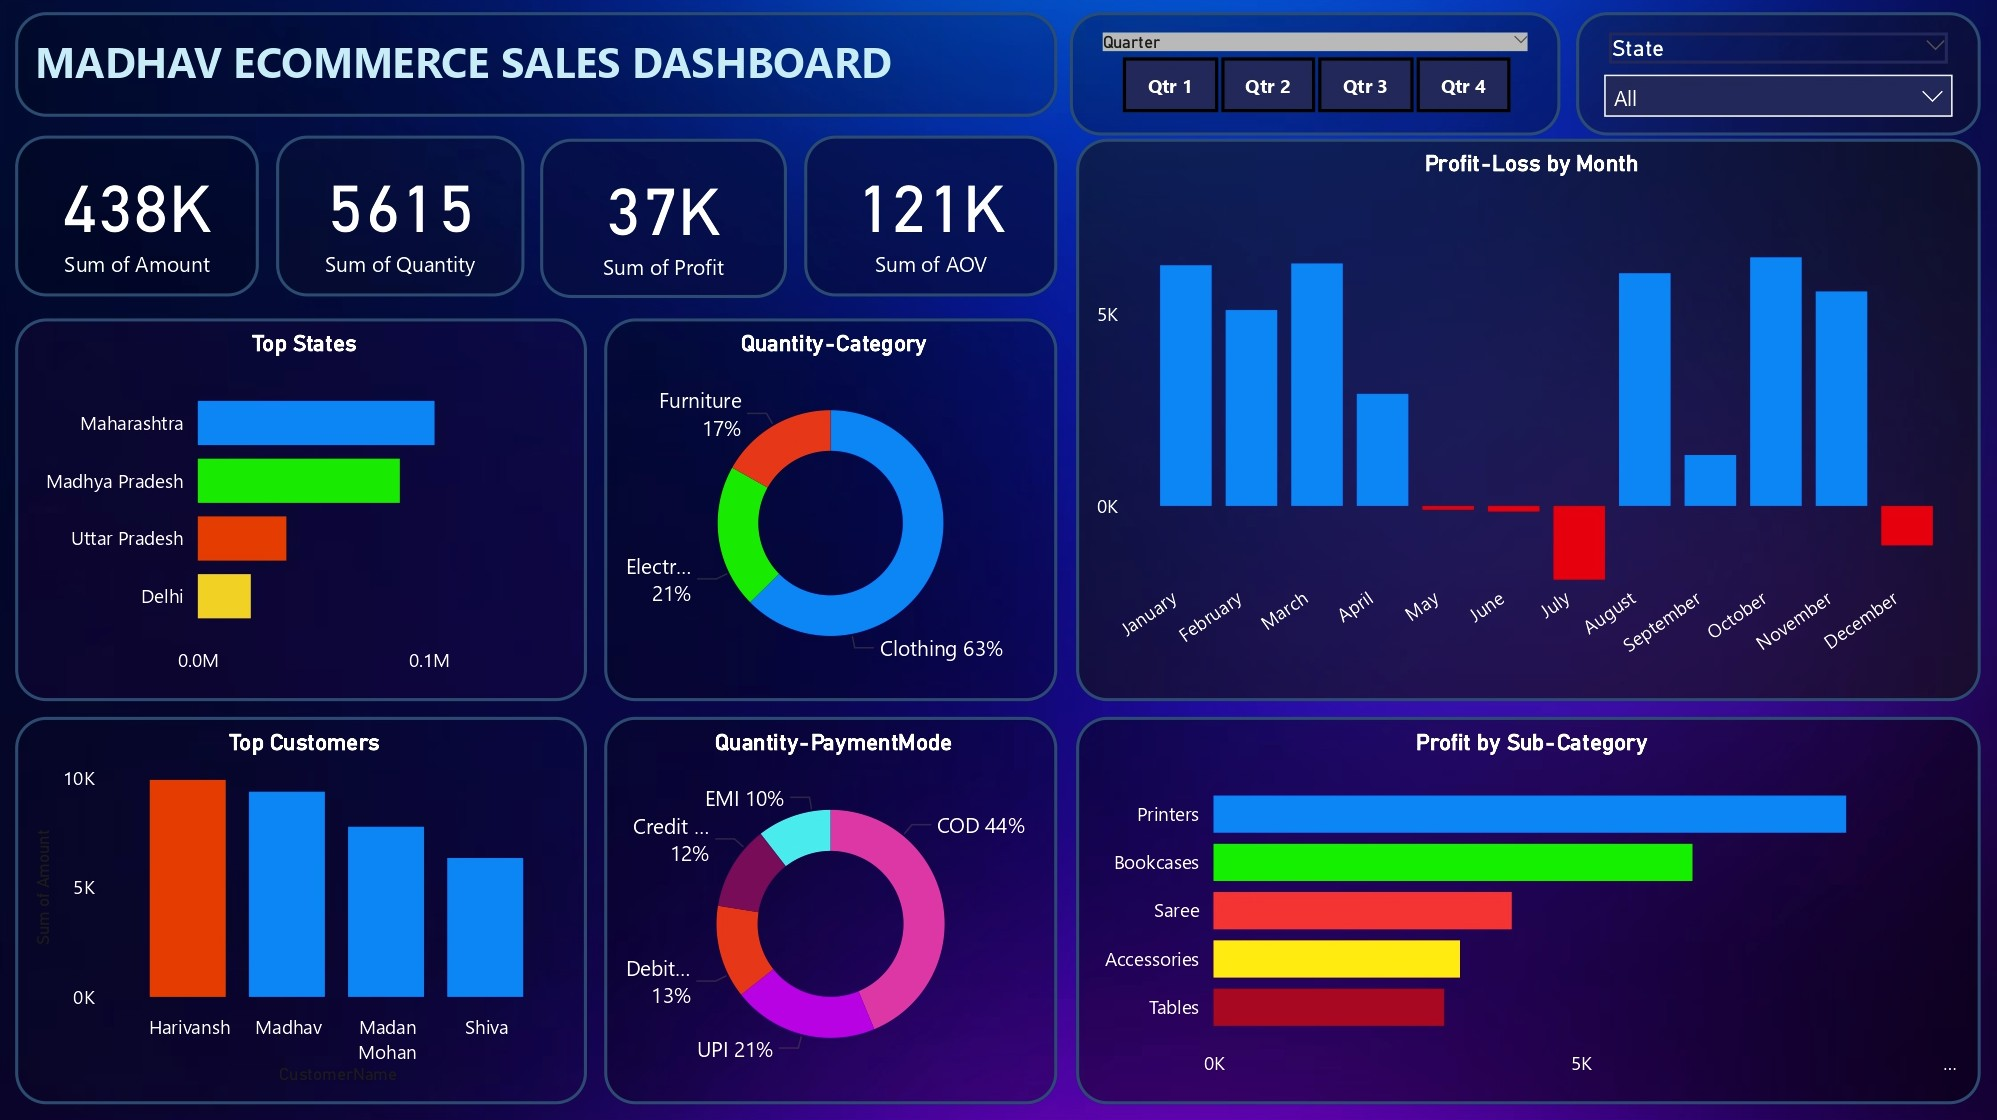

Layout of this report page (visuals, bound fields, positions):
{"tool":"powerbi","page":{"name":"Page 1","canvas":[1280,720],"ordinal":0},"visuals":[{"type":"textbox","box":[9.6,9.6,666.9,67.2],"z":0},{"type":"columnChart","title":"Profit-Loss by Month","fields":{"Y":["Details.Profit"],"Category":["Orders.Order Date.Variation.Date Hierarchy.Month"]},"box":[688.9,90.6,579.1,360.9],"z":1000},{"type":"barChart","title":"Profit by Sub-Category","fields":{"Category":["Details.Sub-Category"],"Y":["Details.Profit"]},"box":[688.9,461.1,579.1,248.4],"z":2000},{"type":"donutChart","title":"Quantity-Category","fields":{"Y":["Details.Quantity"],"Category":["Details.Category"]},"box":[387,205.8,289.5,245.6],"z":3000},{"type":"donutChart","title":"Quantity-PaymentMode","fields":{"Y":["Details.Quantity"],"Category":["Details.PaymentMode"]},"box":[387,461.1,289.5,248.4],"z":4000},{"type":"card","fields":{"Values":["Details.Amount"]},"box":[9.6,89.2,156.4,102.9],"z":5000},{"type":"card","fields":{"Values":["Details.Quantity"]},"box":[177,89.2,159.2,102.9],"z":6000},{"type":"card","fields":{"Values":["Details.Profit"]},"box":[345.8,90.6,157.8,102.9],"z":7000},{"type":"card","fields":{"Values":["Details.AOV"]},"box":[514.6,89.2,161.9,102.9],"z":8000},{"type":"barChart","title":"Top States","fields":{"Category":["Orders.State"],"Y":["Details.Amount"]},"box":[9.6,205.8,366.4,245.6],"z":9000},{"type":"columnChart","title":"Top Customers","fields":{"Category":["Orders.CustomerName"],"Y":["Details.Amount"]},"box":[9.6,461.1,366.4,248.4],"z":10000},{"type":"slicer","fields":{"Values":["Orders.Order Date.Variation.Date Hierarchy.Quarter"]},"box":[684.7,9.6,314.2,79.6],"z":11000},{"type":"slicer","fields":{"Values":["Orders.State"]},"box":[1008.6,9.6,259.3,79.6],"z":12000}]}

Visuals, with their boxes in screenshot pixels (x1, y1, x2, y2), scaled from the page's 1280x720 canvas onto the 1997x1120 screenshot:
textbox: [x1=15, y1=15, x2=1055, y2=119]
"Profit-Loss by Month" columnChart: [x1=1075, y1=141, x2=1978, y2=702]
"Profit by Sub-Category" barChart: [x1=1075, y1=717, x2=1978, y2=1104]
"Quantity-Category" donutChart: [x1=604, y1=320, x2=1055, y2=702]
"Quantity-PaymentMode" donutChart: [x1=604, y1=717, x2=1055, y2=1104]
card - Details.Amount: [x1=15, y1=139, x2=259, y2=299]
card - Details.Quantity: [x1=276, y1=139, x2=525, y2=299]
card - Details.Profit: [x1=540, y1=141, x2=786, y2=301]
card - Details.AOV: [x1=803, y1=139, x2=1055, y2=299]
"Top States" barChart: [x1=15, y1=320, x2=587, y2=702]
"Top Customers" columnChart: [x1=15, y1=717, x2=587, y2=1104]
slicer - Orders.Order Date.Variation.Date Hierarchy.Quarter: [x1=1068, y1=15, x2=1558, y2=139]
slicer - Orders.State: [x1=1574, y1=15, x2=1978, y2=139]
